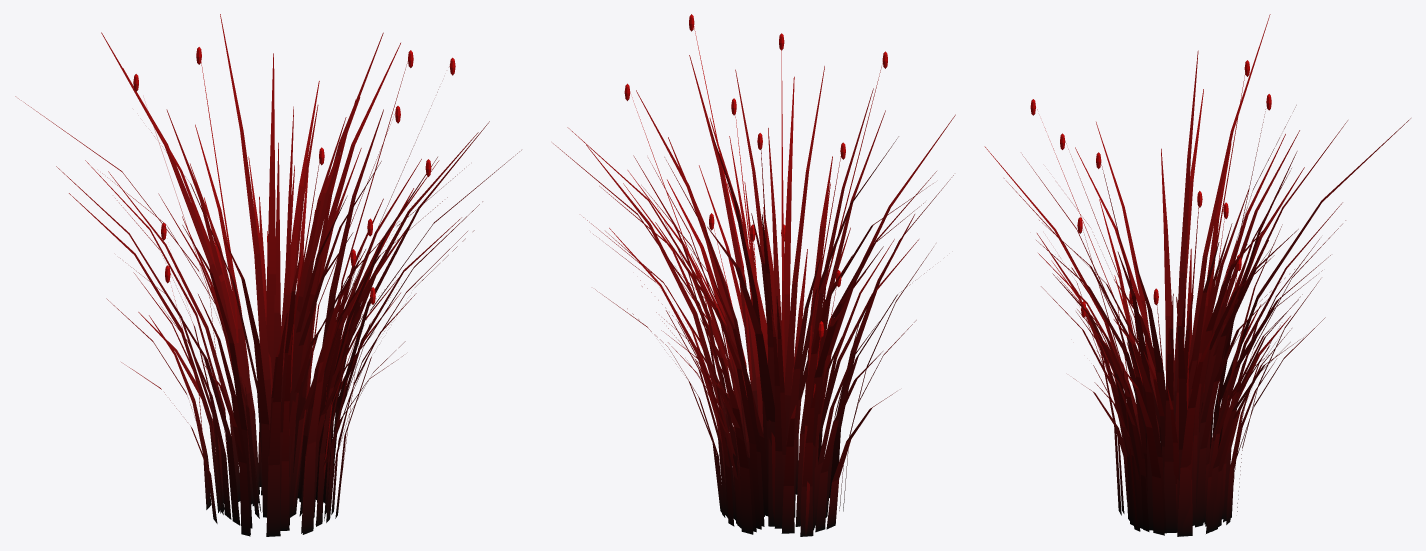
Rendered from prairie_bunchgrass_v2.fbx.
3 views of the same model, side by side, from view 1: azimuth 30°, elevation 25°; view 2: azimuth 150°, elevation 25°; view 3: azimuth 270°, elevation 25° (orthographic). The views are drawn at different scales.
Visible parts, largest first — view 1: prairie_bunchgrass_v2; view 2: prairie_bunchgrass_v2; view 3: prairie_bunchgrass_v2.
Boxes of the visible parts, box(x1,y1,x2,y2) form: prairie_bunchgrass_v2: box(15, 14, 521, 536); prairie_bunchgrass_v2: box(553, 14, 955, 536); prairie_bunchgrass_v2: box(984, 14, 1410, 536).
Bounding box in the file's own units: 94.44 × 98.42 × 90.35.
